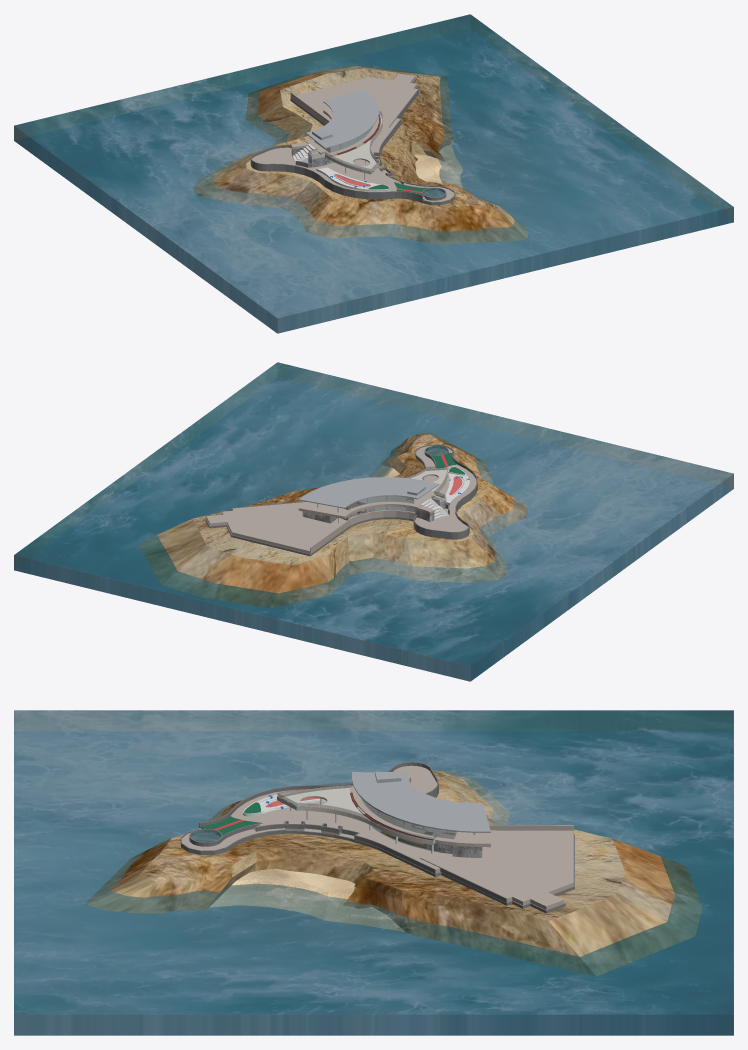
File: GEYEUM_1.glb
The picture shows the model from 3 angles, top to bottom: view 1: azimuth 30°, elevation 25°; view 2: azimuth 150°, elevation 25°; view 3: azimuth 270°, elevation 25°; orthographic projection. The views are drawn at different scales.
Parts seen in each view (by area): view 1: Plane, Object, 1F, 3F, 2F, ddang_curve_.001; view 2: Plane, Object, 1F, 3F, 2F; view 3: Plane, Object, 1F, ddang_curve_.001, 3F, 2F.
Part boxes in pixels (x1,y1,x2,y2): Plane: [14, 14, 733, 333]; Object: [193, 65, 527, 244]; 1F: [250, 73, 454, 205]; 3F: [305, 89, 378, 148]; 2F: [291, 108, 382, 174]; ddang_curve_.001: [414, 144, 462, 188]; Plane: [14, 362, 733, 681]; Object: [138, 433, 527, 607]; 1F: [205, 444, 477, 556]; 3F: [298, 477, 439, 508]; 2F: [298, 466, 447, 518]; Plane: [14, 710, 733, 1035]; Object: [85, 771, 702, 976]; 1F: [180, 762, 574, 913]; ddang_curve_.001: [210, 868, 404, 931]; 3F: [352, 771, 490, 832]; 2F: [277, 776, 490, 847].
Size of what is drawn, in the model's own units: 90.9 by 10.7 by 90.9.
26 materials, 4 textured.
